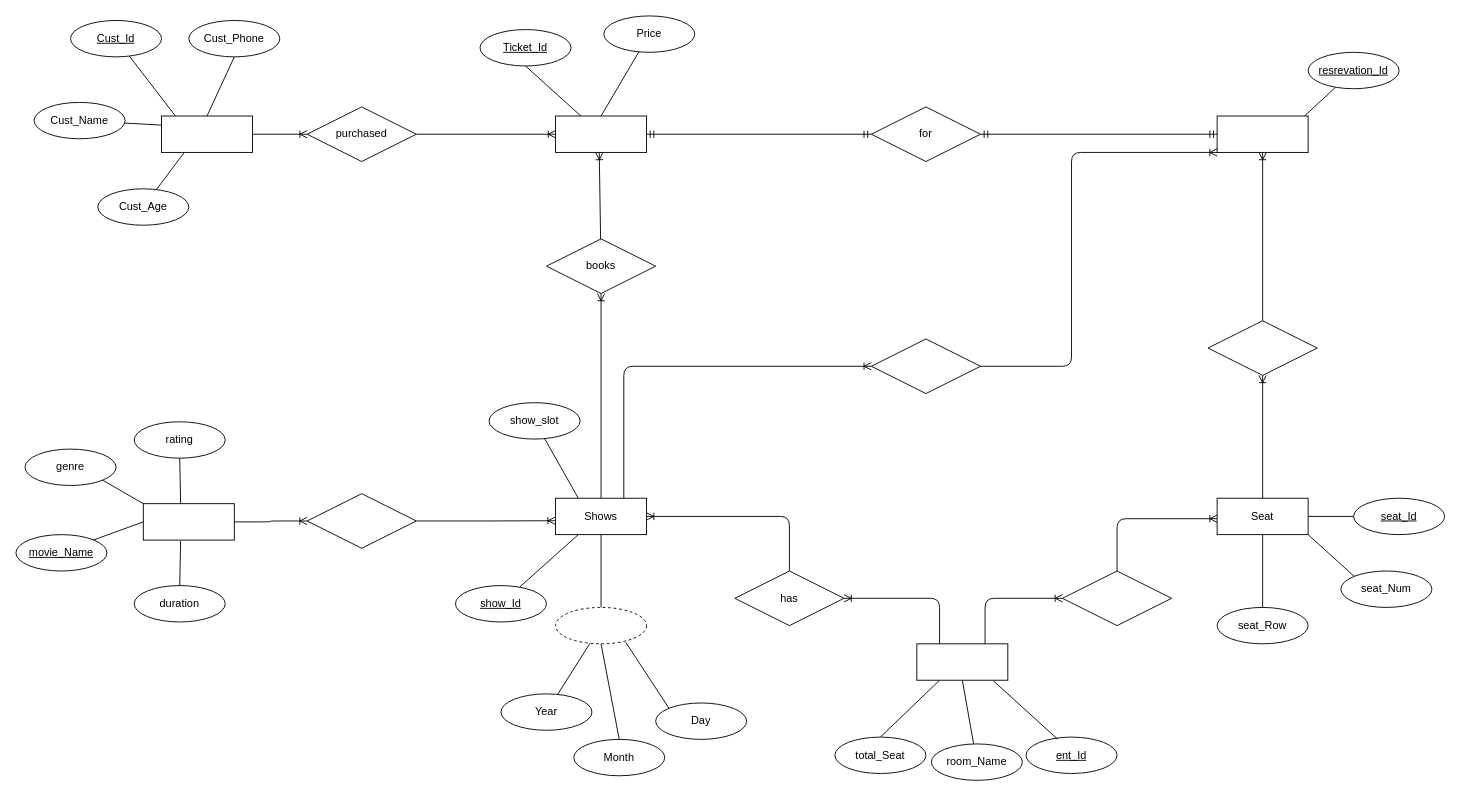
Some shapes in this 1461 by 796 pixel diagram are drawn without their labels. Each missing label, with the centre of its shape:
Customer: the point at 207,133
Movie: the point at 188,521
movie_Room: the point at 962,661
of: the point at 1262,347
on: the point at 1117,598
playing: the point at 361,520
Reservation: the point at 1262,133
reserved: the point at 925,366
show_Date: the point at 601,625
Ticket: the point at 601,133
